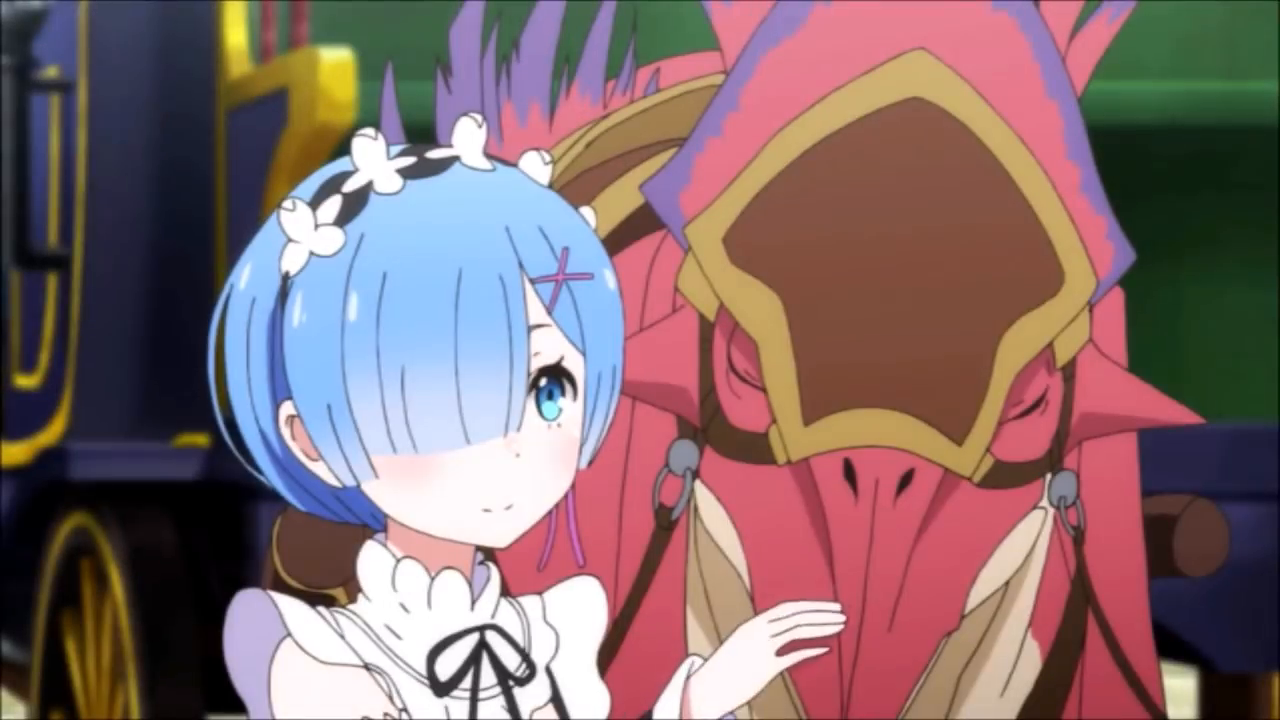REM: (201, 143, 623, 552)
